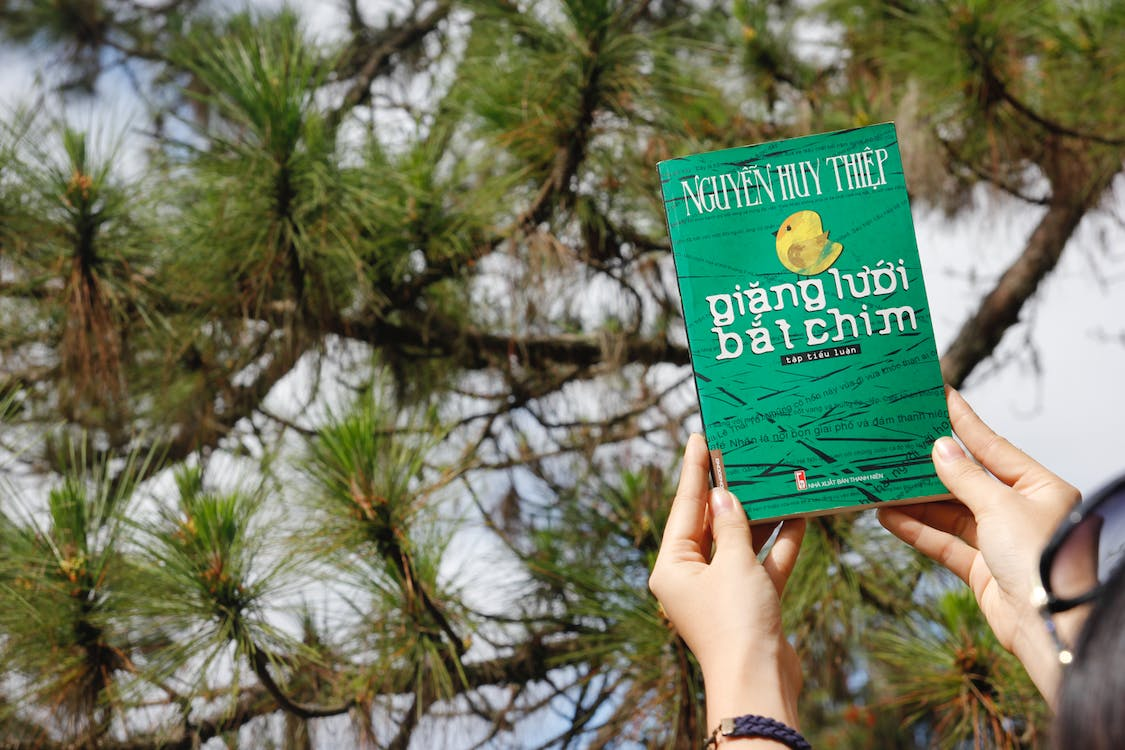book: (649, 114, 972, 527)
